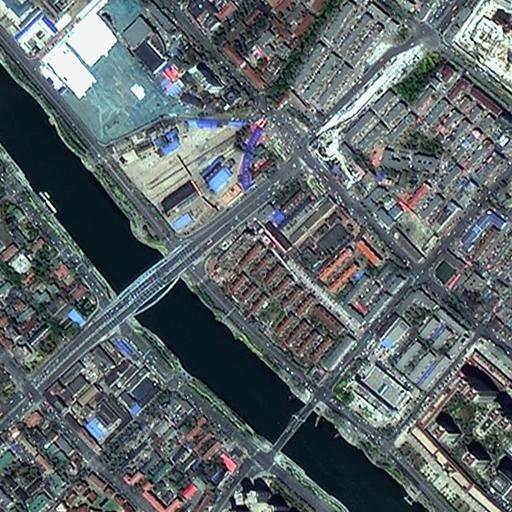school: (425, 245, 468, 293)
